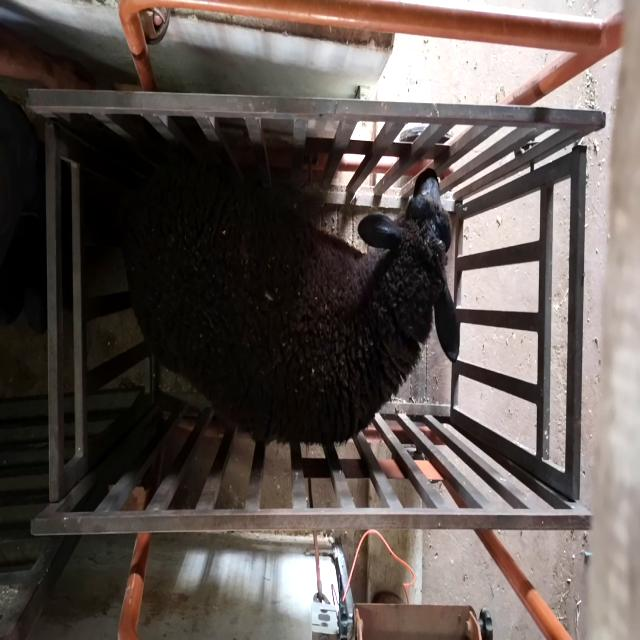sheep: (119, 156, 461, 444)
